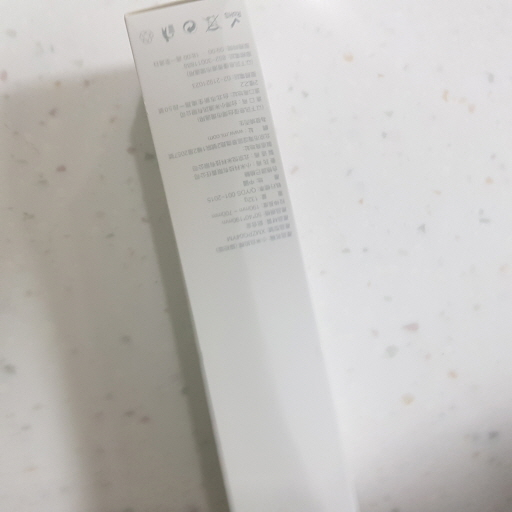Paper_0: (117, 2, 366, 512)
